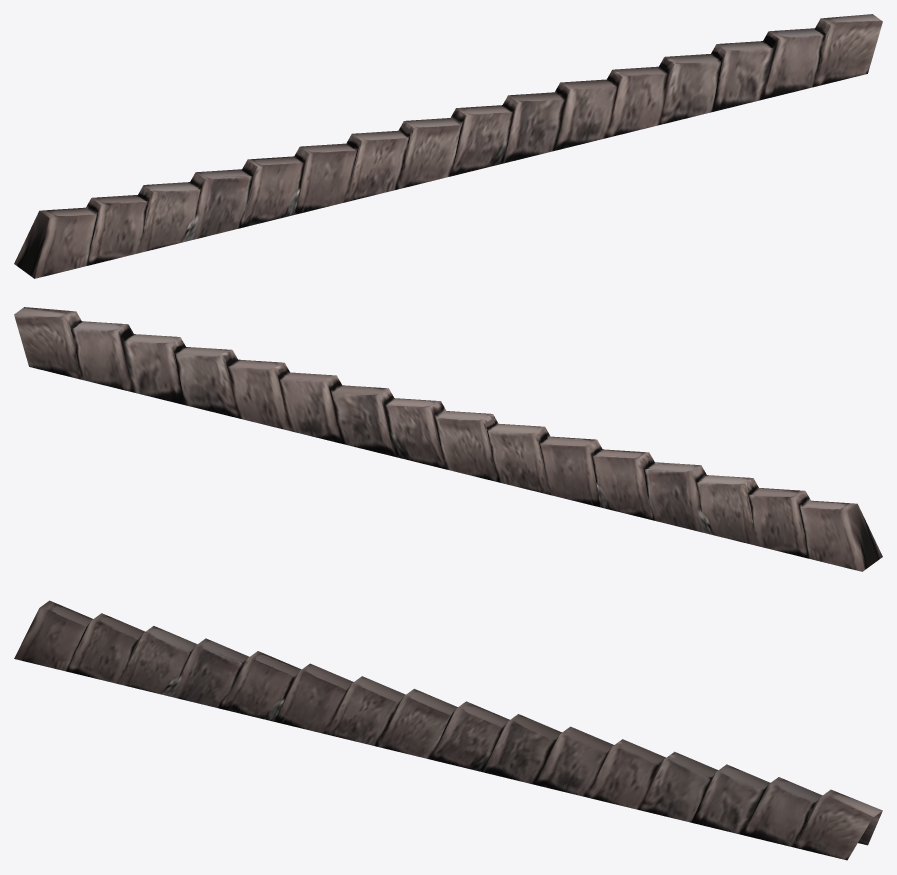
The model's file is RoofEdge2A.fbx.
3 renders of one model, top to bottom at view 1: azimuth 30°, elevation 25°; view 2: azimuth 150°, elevation 25°; view 3: azimuth 330°, elevation 25°, orthographic.
Visible parts, largest first — view 1: RoofEdge2A; view 2: RoofEdge2A; view 3: RoofEdge2A.
Part boxes in pixels (left/top/right/bottom): RoofEdge2A: left=14, top=14, right=882, bottom=278; RoofEdge2A: left=14, top=307, right=882, bottom=571; RoofEdge2A: left=14, top=600, right=882, bottom=860.
Bounding box in the file's own units: 410 × 24.65 × 17.1.
